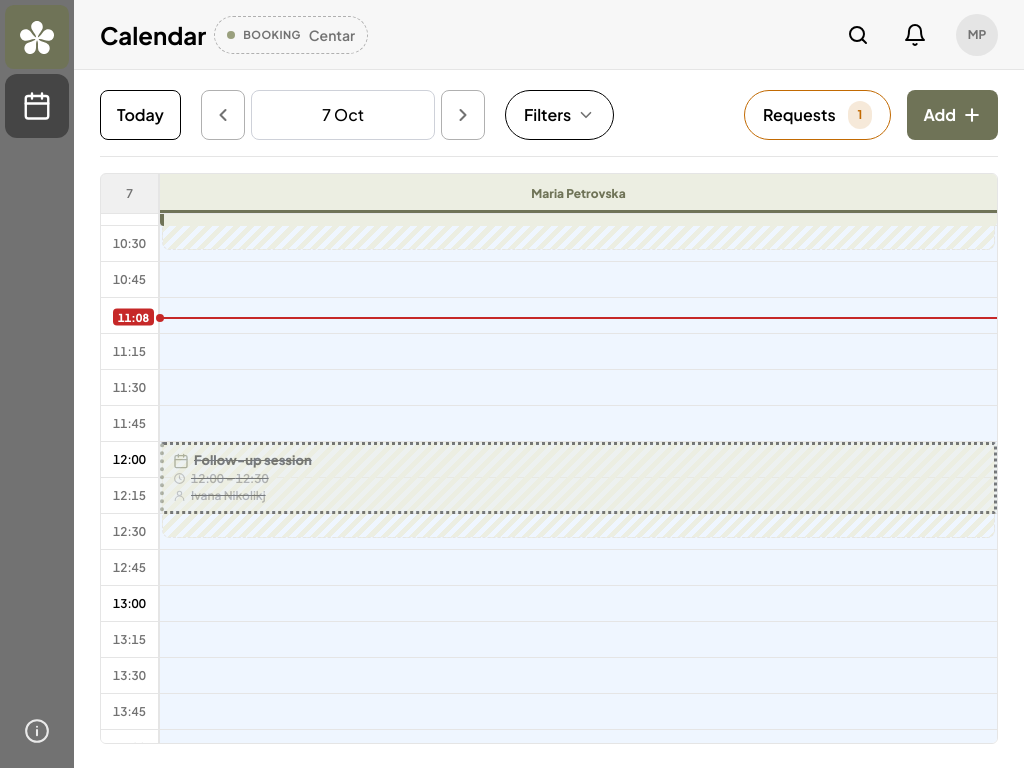
Scenario: booking changes on the calendar › cancelled visits stay on the grid, muted, until the filter hides them; their drawer says who cancelled and the refund state
(page scrolled)
Click the button titled "Ivana".
click(253, 460)  # box [160,442,997,514]
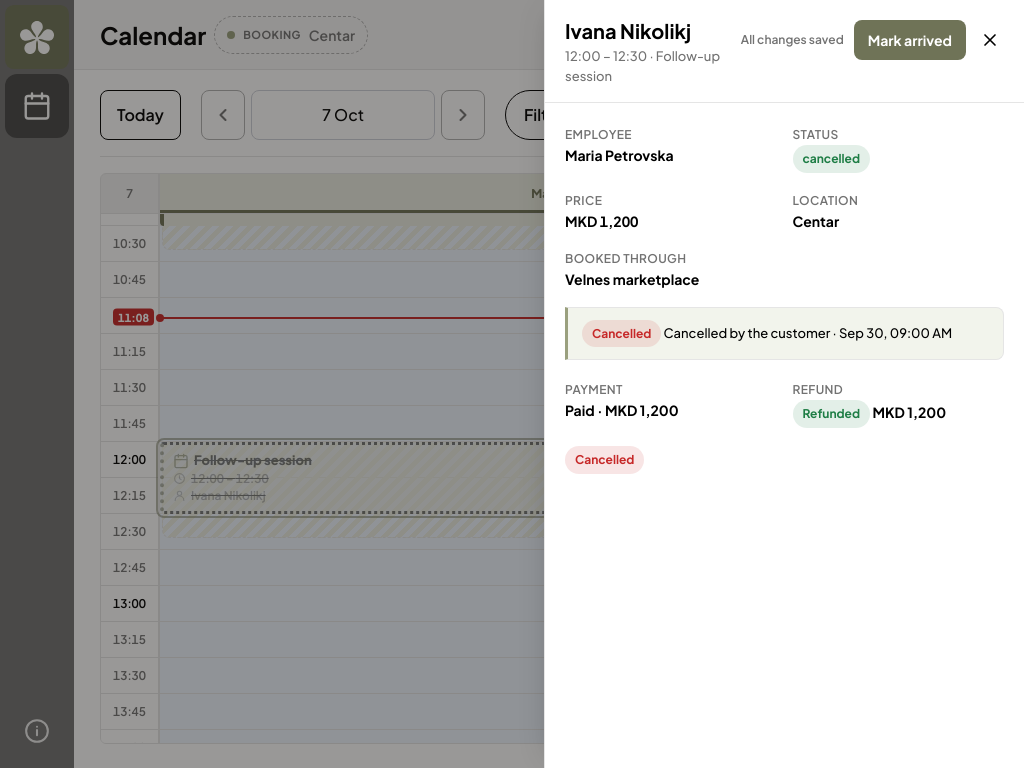
Result: the text "Cancelled by the customer" is shown at [664,325,830,341]
Result: the text "Refunded" is shown at [792,400,870,428]
Click the button named "Close".
click(990, 40)  # box [976,26,1004,54]
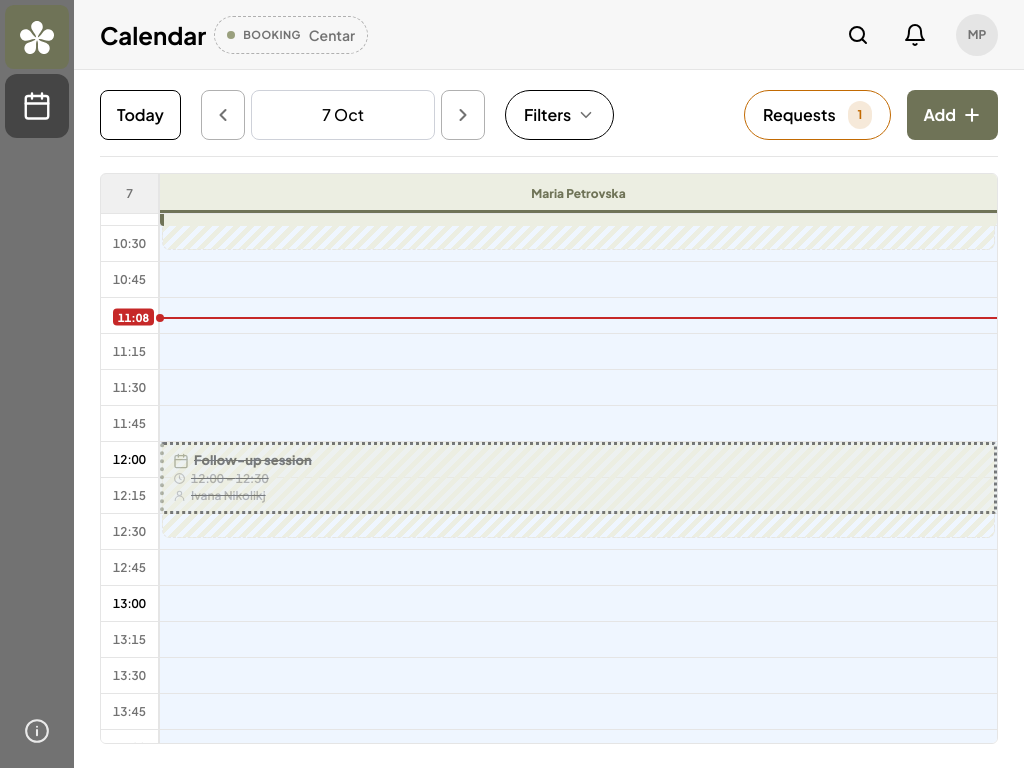
Click the button "Filters".
click(560, 115)  # box [505,90,614,140]
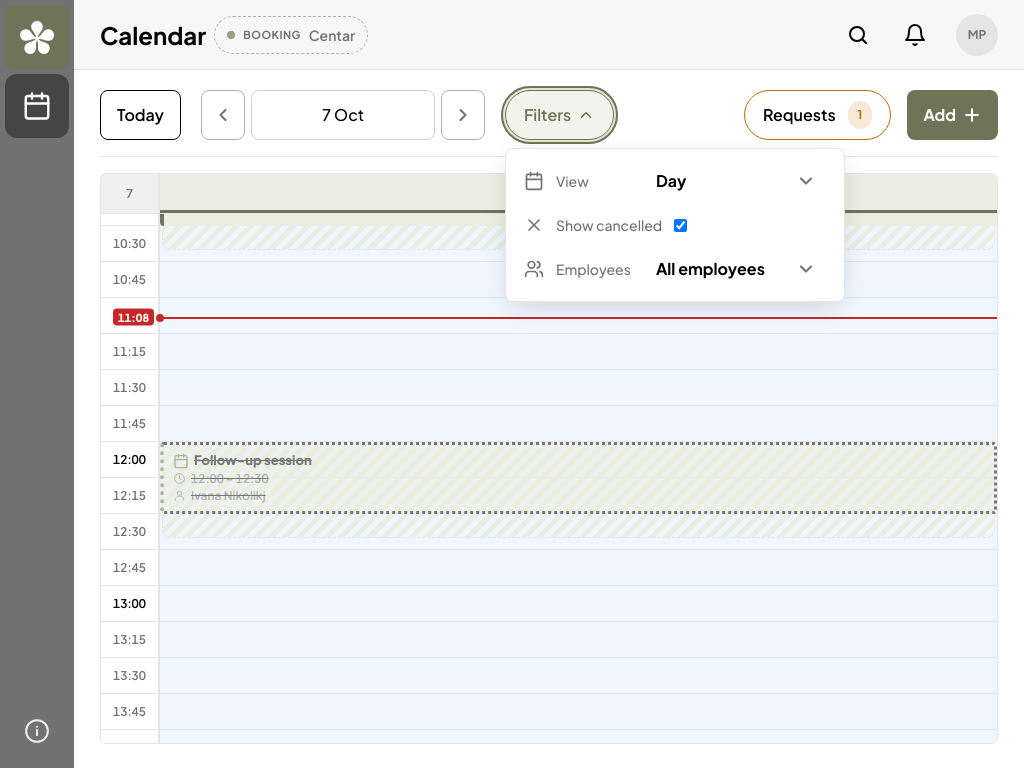
Click the checkbox named "Show cancelled".
click(681, 225)  # box [674,218,687,232]
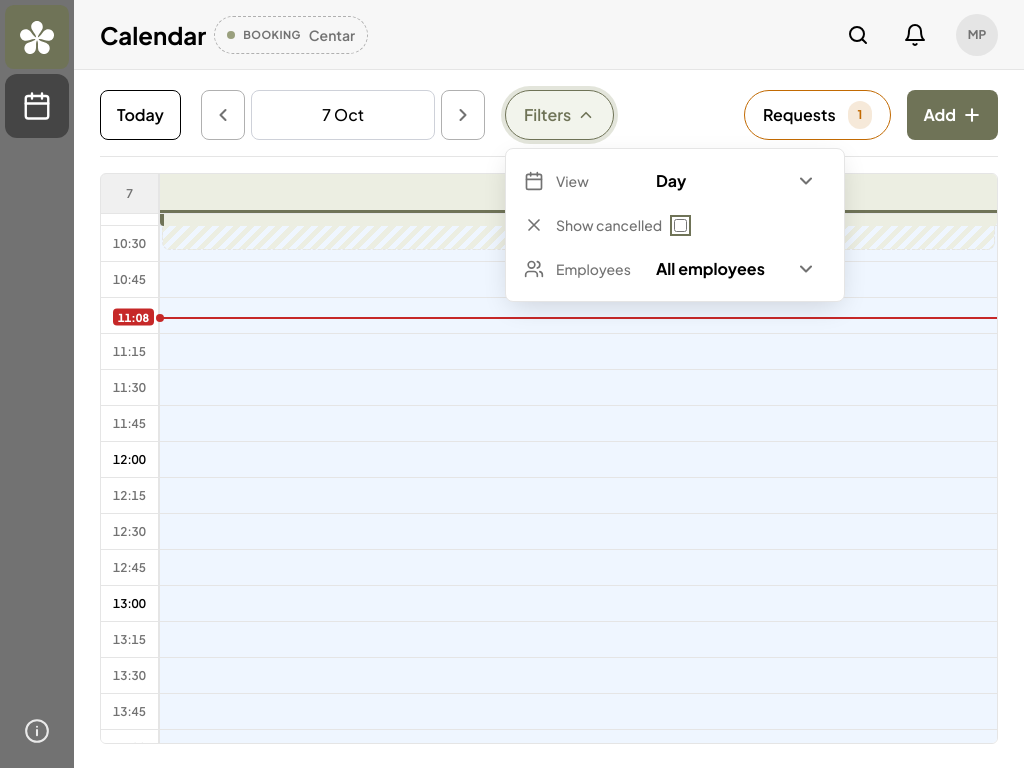
Result: the button titled "Ivana" is gone
